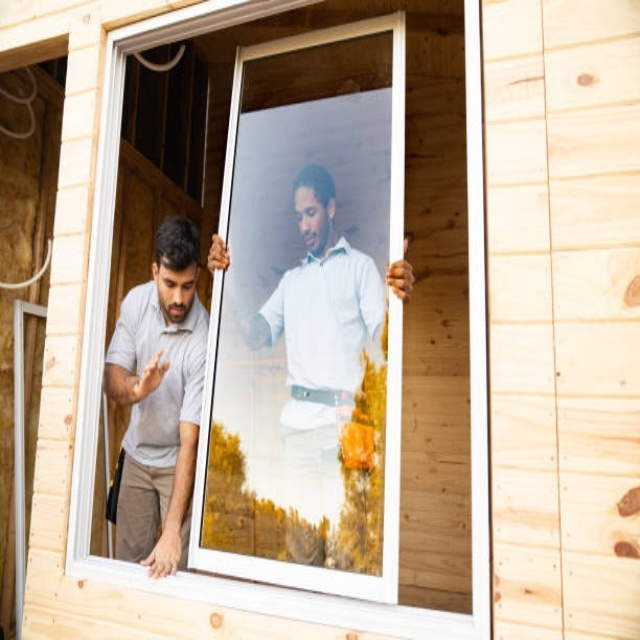Sin_gafas: (161, 271, 192, 295), (294, 202, 320, 223)
Sin_guantes: (138, 521, 182, 577), (133, 347, 170, 403), (386, 236, 415, 302), (206, 232, 231, 273)
Sin_mascara: (300, 231, 318, 257), (166, 301, 184, 323)
